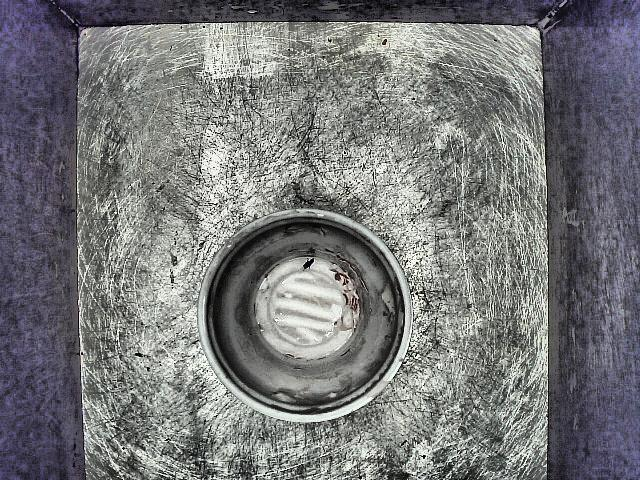Plastic: (174, 195, 424, 415)
